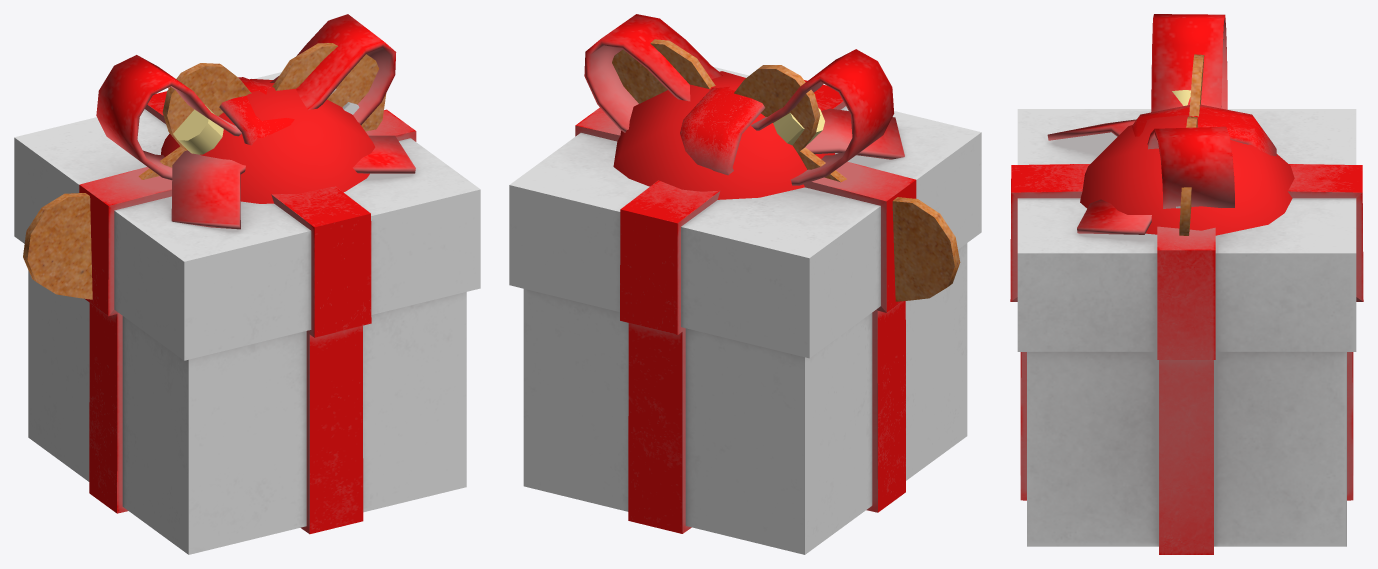
Rendered from Toys.fbx.
3 views of the same model, side by side, from view 1: azimuth 30°, elevation 25°; view 2: azimuth 150°, elevation 25°; view 3: azimuth 270°, elevation 25° (orthographic).
Parts seen in each view (by area): view 1: Box, Bomb, Gingerbread; view 2: Box, Bomb, Gingerbread; view 3: Box, Bomb, Gingerbread.
Part boxes in pixels (bbox=[...]): Box: bbox=[14, 14, 480, 554]; Bomb: bbox=[161, 79, 375, 203]; Gingerbread: bbox=[23, 43, 386, 299]; Box: bbox=[509, 14, 981, 554]; Bomb: bbox=[613, 71, 834, 199]; Gingerbread: bbox=[612, 39, 960, 301]; Box: bbox=[1010, 14, 1363, 554]; Bomb: bbox=[1080, 90, 1294, 235]; Gingerbread: bbox=[1176, 54, 1204, 235].
Bounding box in the file's own units: 266 × 292 × 221.
